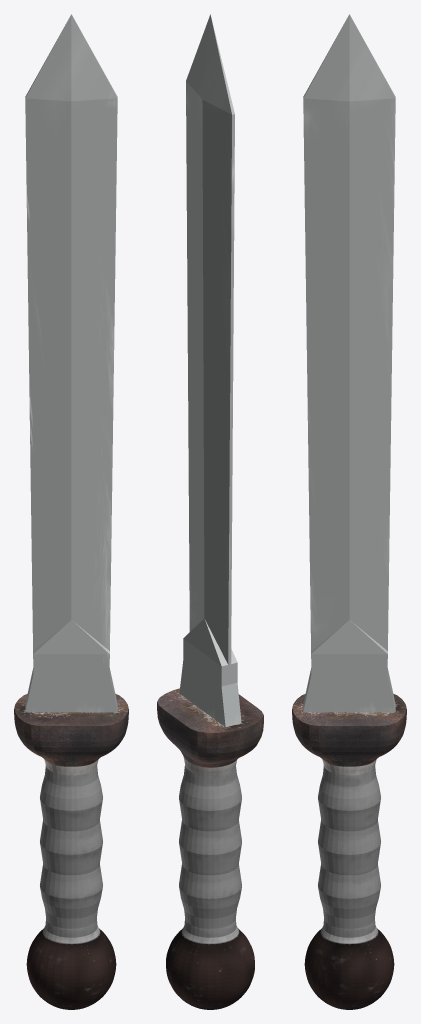
File: Glaive (pour Unity).fbx
The picture shows the model from 3 angles, left to right: view 1: azimuth 90°, elevation 25°; view 2: azimuth 210°, elevation 25°; view 3: azimuth 270°, elevation 25°; orthographic projection.
Parts seen in each view (by area): view 1: Lame_V2, Poignee_V2; view 2: Lame_V2, Poignee_V2; view 3: Lame_V2, Poignee_V2.
Boxes of the visible parts, x1,y1,x2,y2 form: Lame_V2: [25, 14, 117, 712]; Poignee_V2: [14, 694, 128, 1009]; Lame_V2: [179, 14, 241, 727]; Poignee_V2: [157, 688, 263, 1009]; Lame_V2: [303, 14, 395, 712]; Poignee_V2: [292, 694, 406, 1009].
Size of the model in its own units: 5.14 by 62.89 by 6.59.
